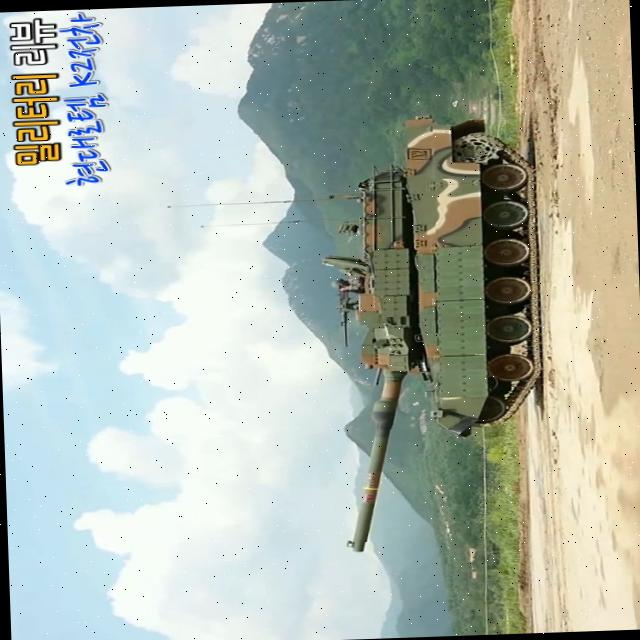korea tank: (316, 109, 548, 552)
